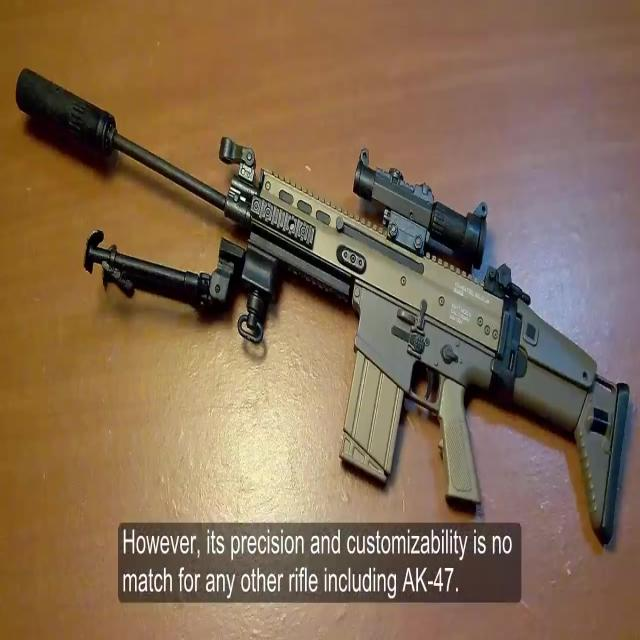Weapon: (12, 39, 636, 556)
